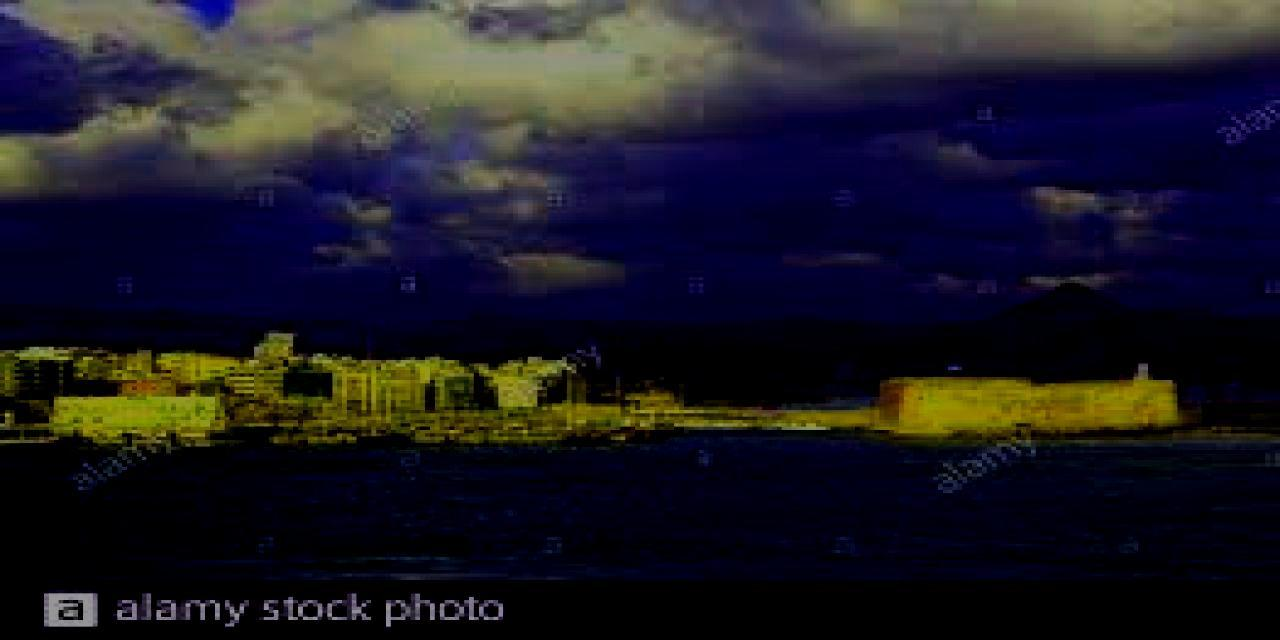Kules: (885, 375, 1184, 439)
